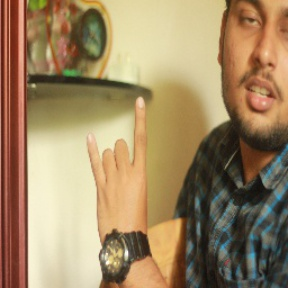V: (85, 94, 162, 240)
